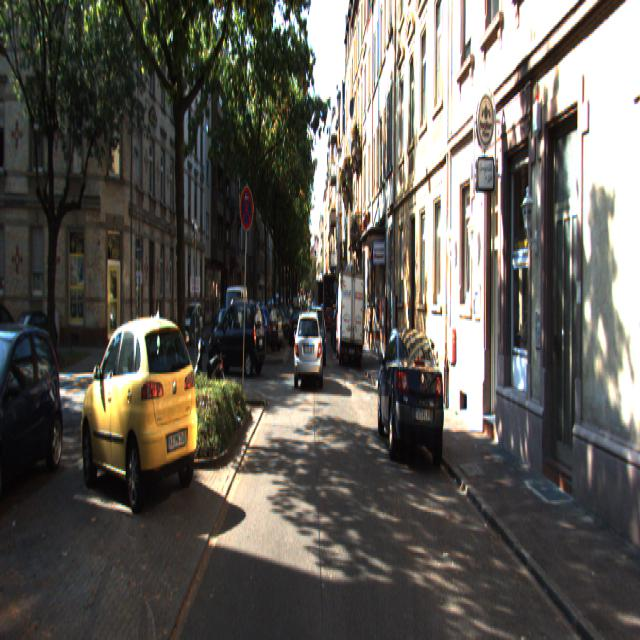Car: (81, 308, 202, 518), (0, 326, 68, 500), (375, 316, 449, 466), (207, 297, 266, 377), (192, 322, 226, 414), (336, 270, 366, 364), (294, 309, 324, 386), (306, 305, 326, 366)
